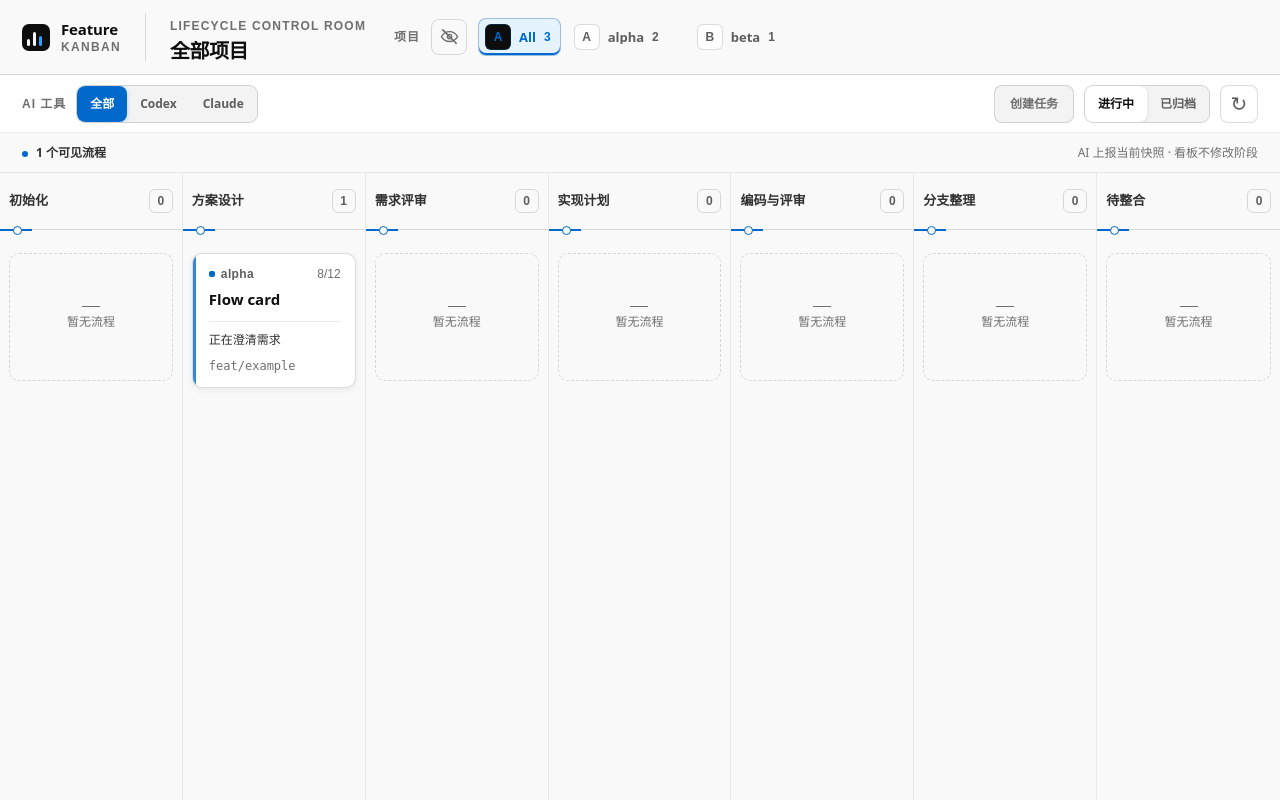
Test: BoardPageComponent › requires a concrete project before opening the create-task dialog
The width and height of the screenshot is (1280, 800).
Click the button "A alpha 2".
click(625, 37)  # box [567, 18, 684, 56]
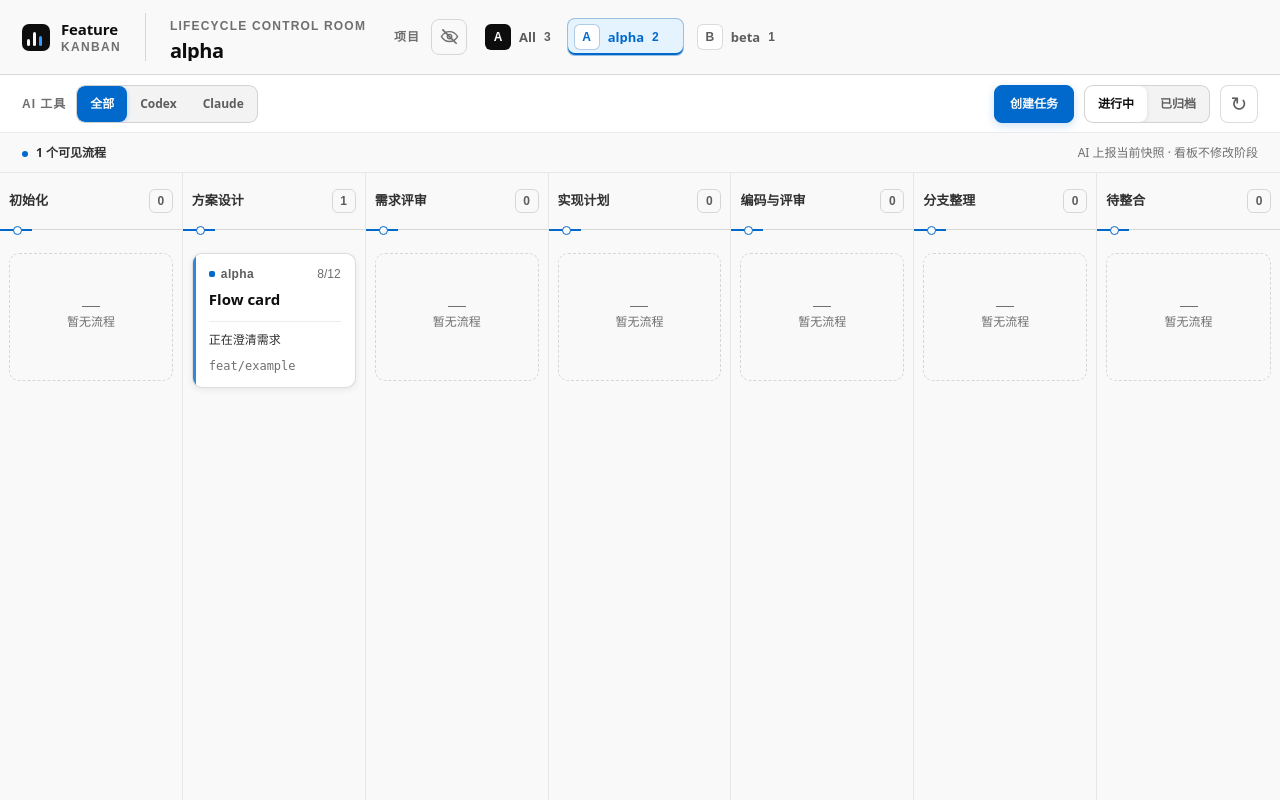
Click the button with class "create-task".
click(1034, 104)  # box [994, 84, 1074, 122]
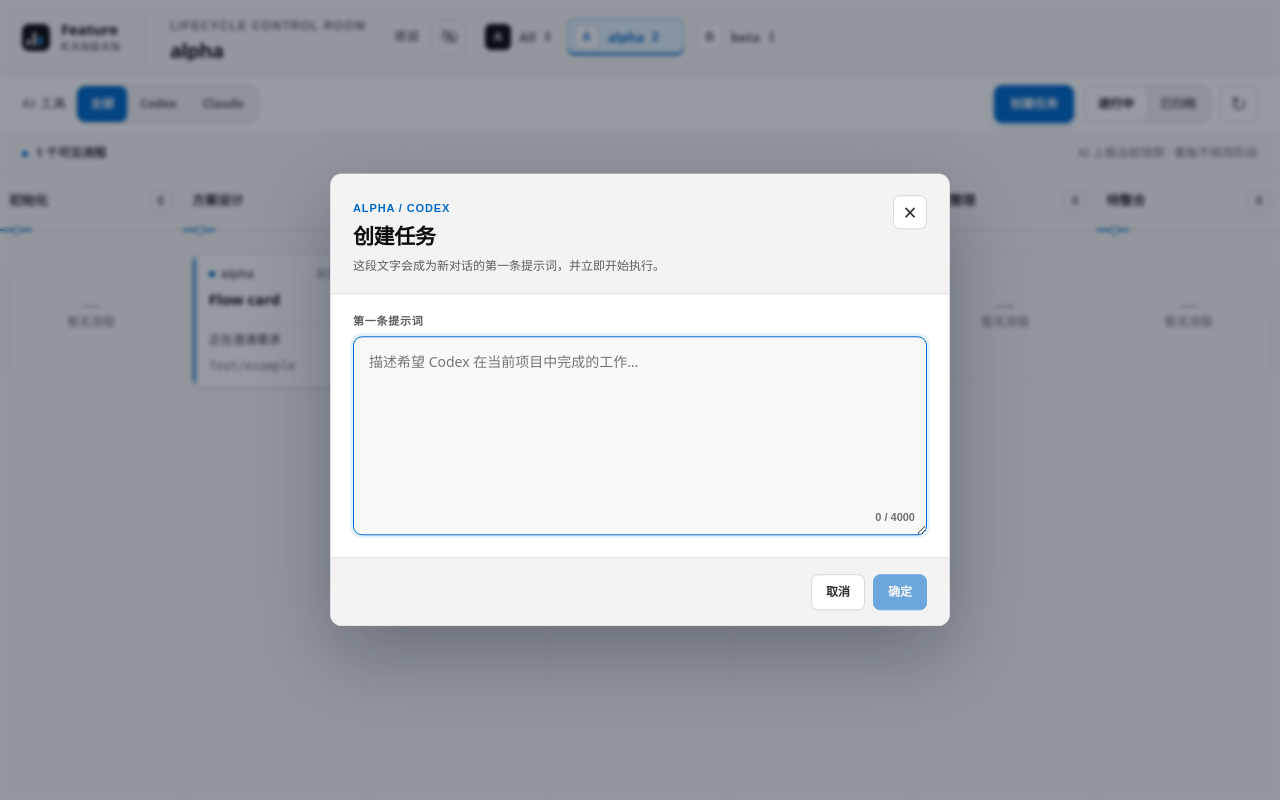
Result: the element that starts with "alpha / Codex" is shown
Result: the text "这段文字会成为新对话的第一条提示词" is shown at [353, 258, 665, 274]
